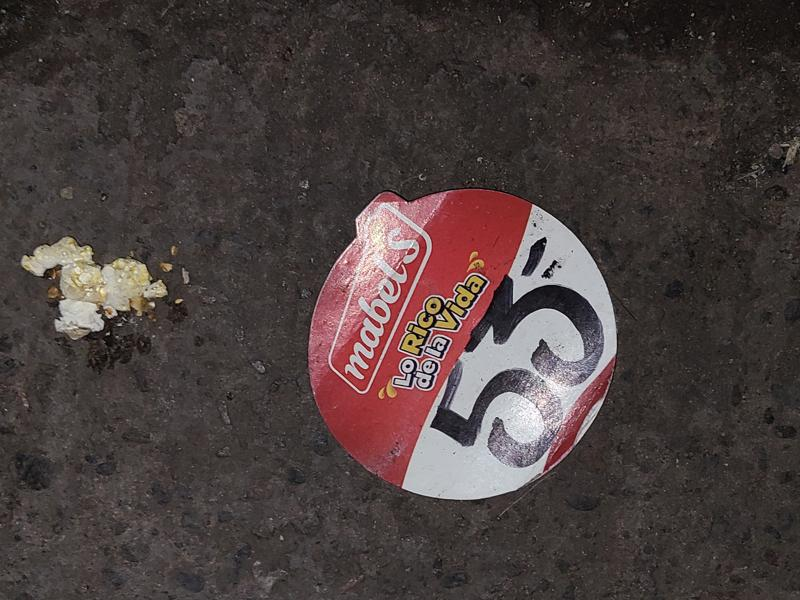papel: (307, 191, 619, 504)
